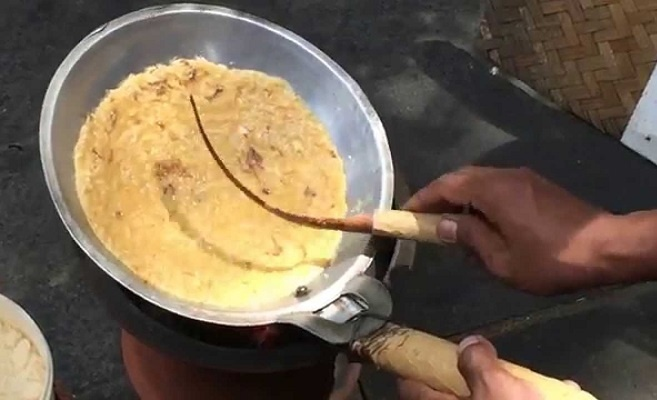kerak_telor: (74, 57, 343, 314)
